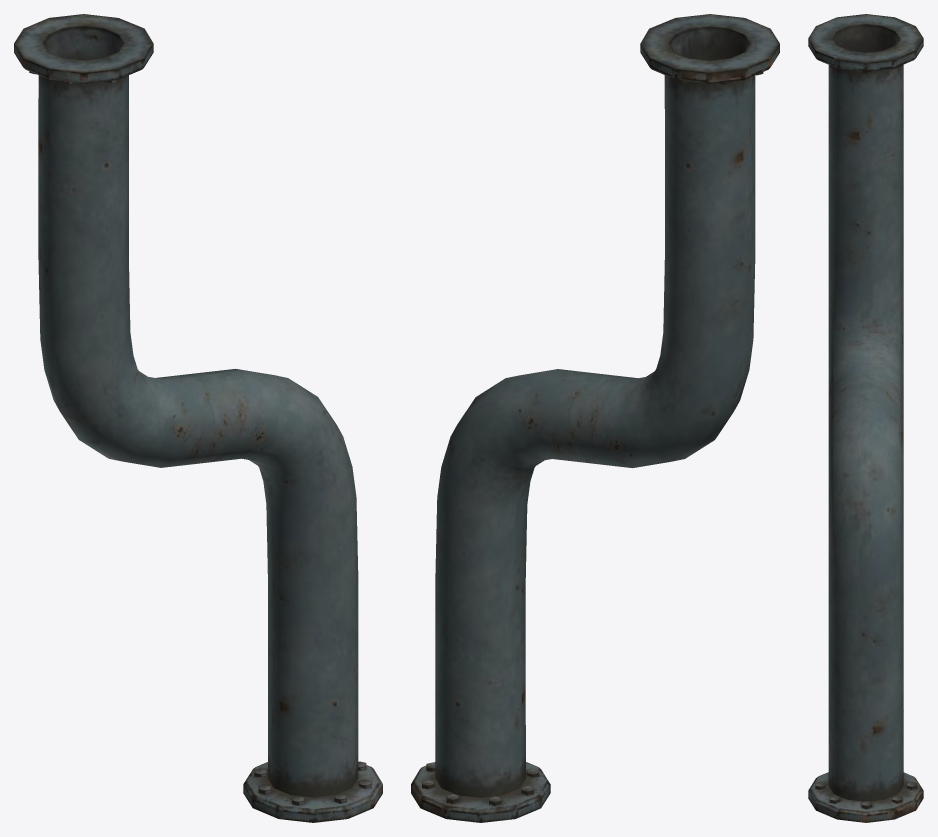
Rendered from pipe_valve.glb.
3 renders of one model, left to right at view 1: azimuth 30°, elevation 25°; view 2: azimuth 150°, elevation 25°; view 3: azimuth 270°, elevation 25°, orthographic. The views are drawn at different scales.
Parts seen in each view (by area): view 1: pipe_valve; view 2: pipe_valve; view 3: pipe_valve.
Part boxes in pixels (bbox=[...]): pipe_valve: bbox=[14, 14, 382, 822]; pipe_valve: bbox=[411, 14, 779, 822]; pipe_valve: bbox=[808, 14, 923, 822].
Bounding box in the file's own units: 0.5986 × 1.31 × 0.2064.
Materials: 1 (1 with a texture image).
